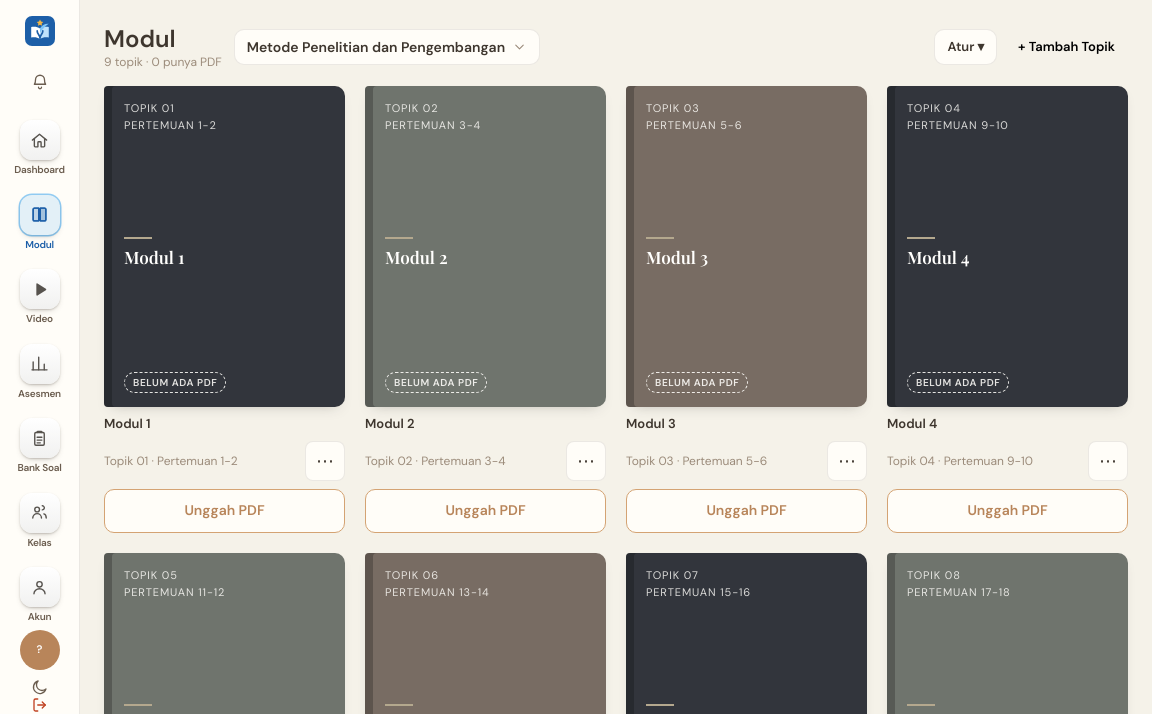
it: ModulList › dosen: menu ⋯ kartu memuat Pratinjau (nonaktif tanpa PDF), Ubah topik, Hapus topik
What coordinates should you click on to do the following:
click the button named "Aksi lain untuk Modul 2"
I would click on:
 (586, 461)
Its box is [566,441,606,481].
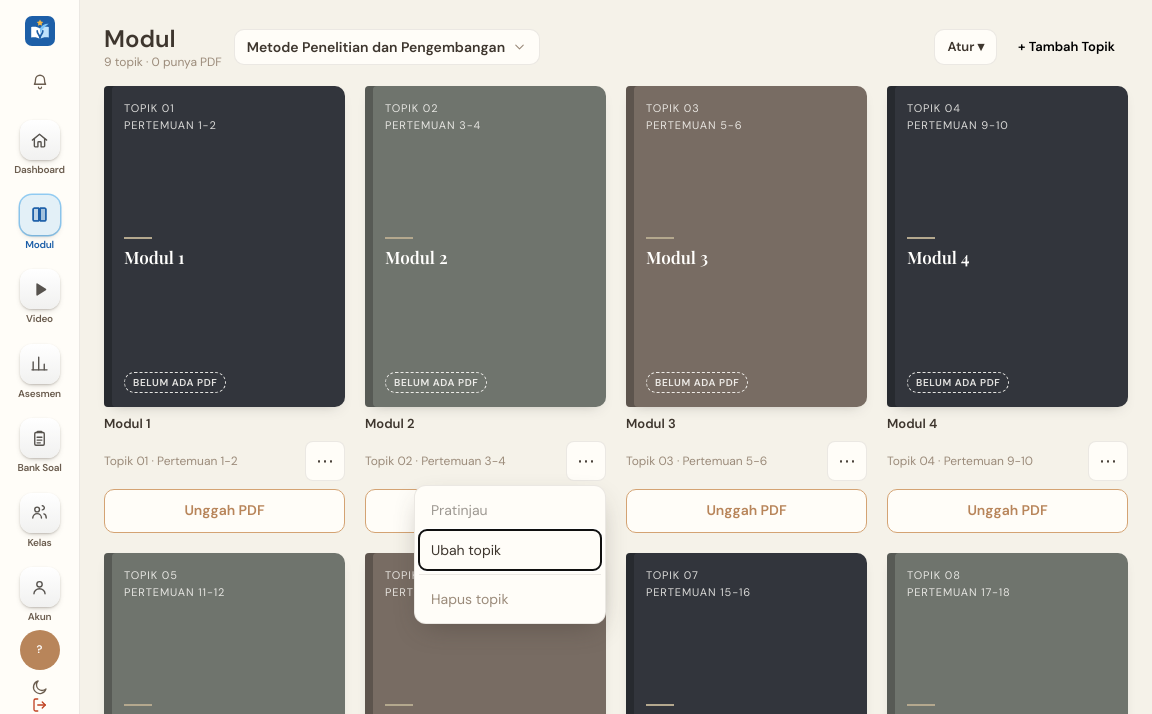
Expected: the menu item "Pratinjau" is disabled, [419,490,601,530]
What coordinates should you click on to do the following:
click the menu item "Ubah topik"
I would click on:
 (510, 550)
Its box is [419,530,601,570].
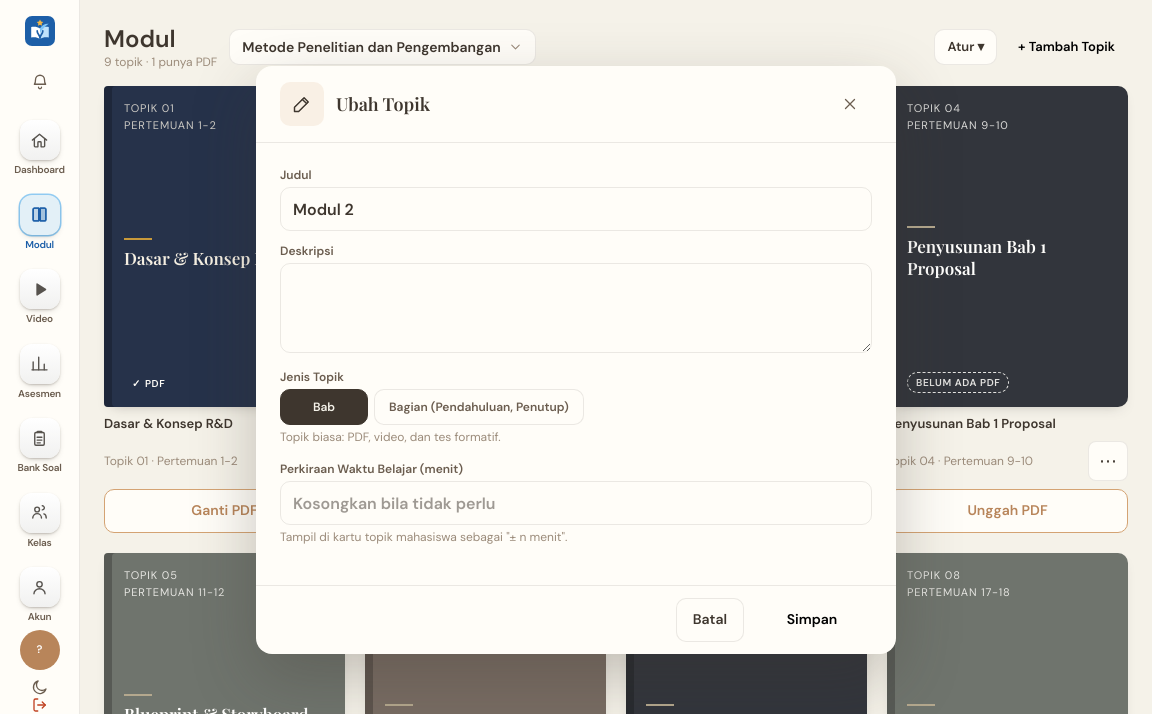
Expected: the heading "Ubah Topik" is shown, [336,92,430,116]
Expected: the menu is gone
